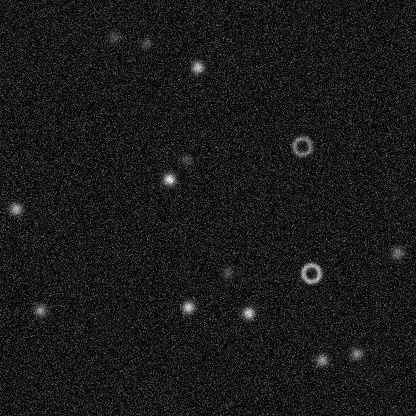Ring: (299, 261, 323, 285), (290, 134, 314, 158)
Spot: (219, 264, 235, 280), (240, 304, 256, 320), (180, 299, 196, 315), (178, 151, 194, 167), (105, 28, 121, 44), (161, 171, 177, 187), (32, 302, 48, 318), (137, 35, 153, 51), (348, 345, 364, 361), (189, 59, 205, 75), (389, 244, 405, 260), (313, 351, 329, 367), (7, 200, 23, 216)
